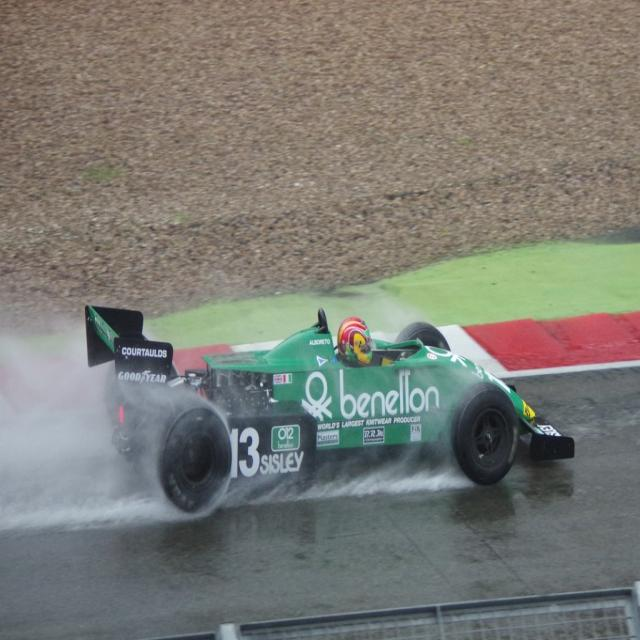car: (83, 302, 575, 513)
